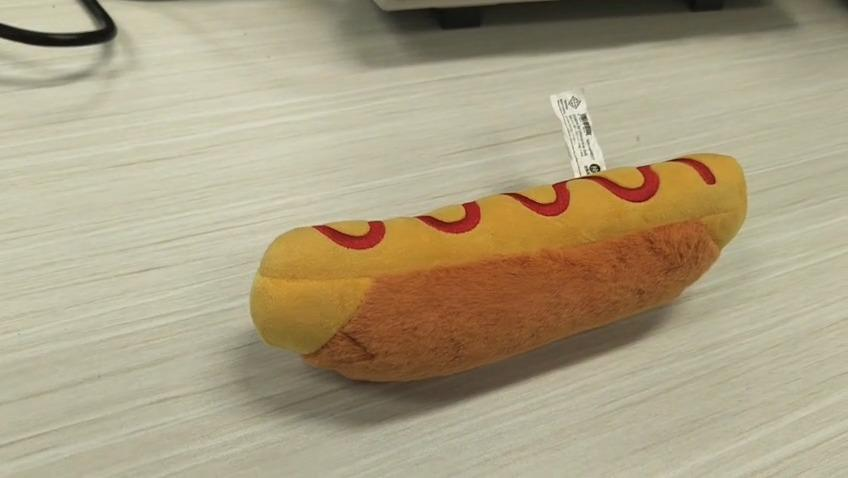hotdog: (248, 150, 748, 383)
